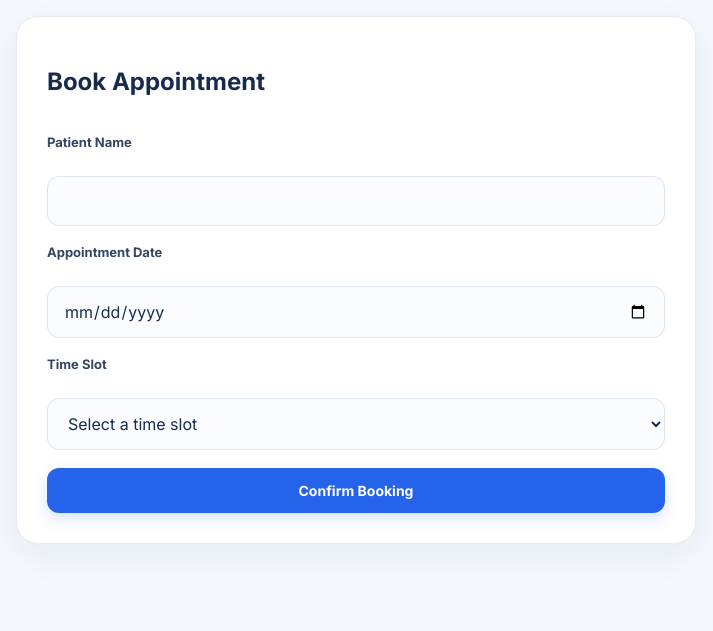
Test: AppointmentForm › validates required fields
Click the button "Confirm Booking" at (356, 490), box x1=47 y1=468 x2=665 y2=513
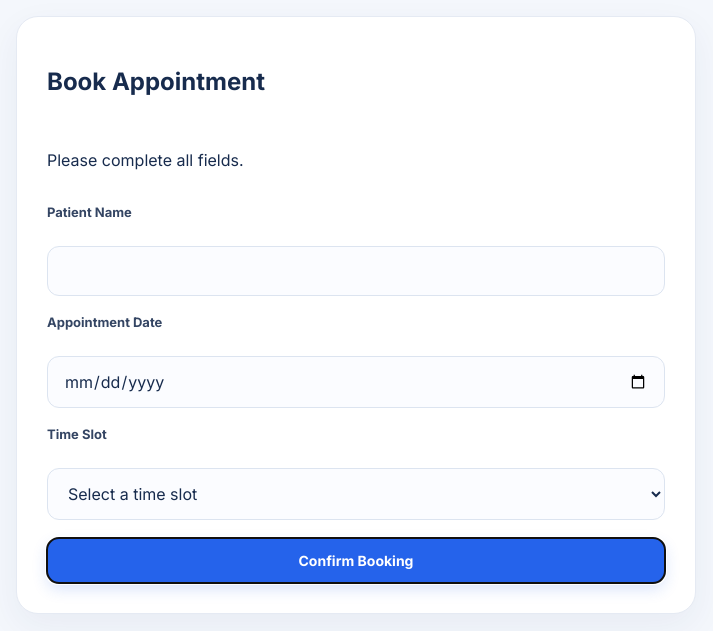
Now the message reads "Please complete all fields.", box x1=47 y1=150 x2=244 y2=170
